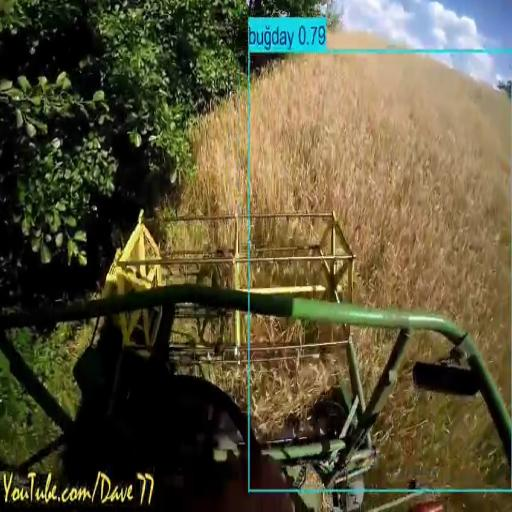bugday: (251, 55, 511, 401), (377, 333, 510, 485), (183, 97, 238, 214), (252, 361, 334, 430)
